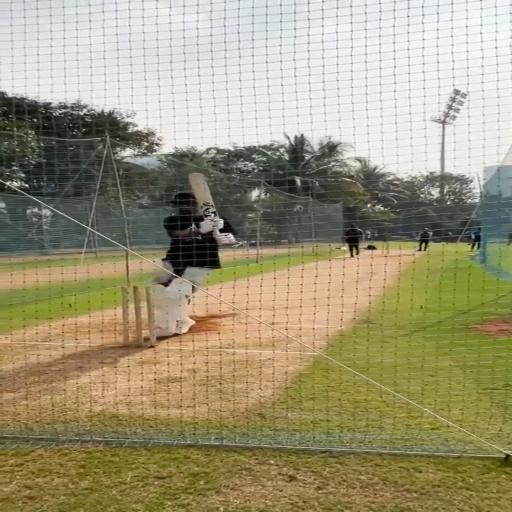Cricket bat: (189, 173, 217, 218)
